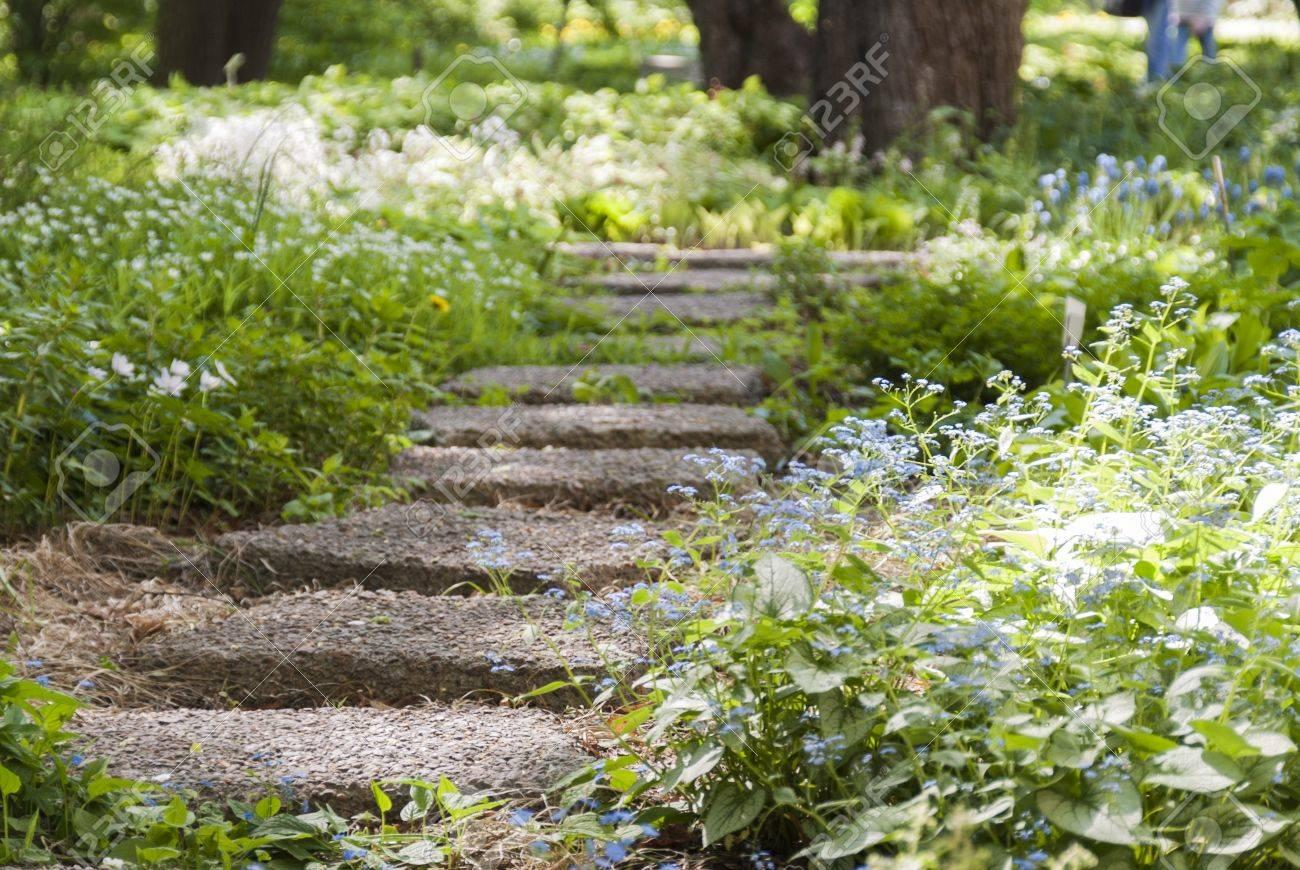overgrown grass: (647, 302, 1299, 869), (0, 151, 537, 538), (768, 165, 1299, 399), (30, 99, 916, 190), (0, 660, 338, 869), (331, 777, 649, 869), (1191, 103, 1299, 198), (937, 116, 1057, 201), (1043, 112, 1181, 182)
